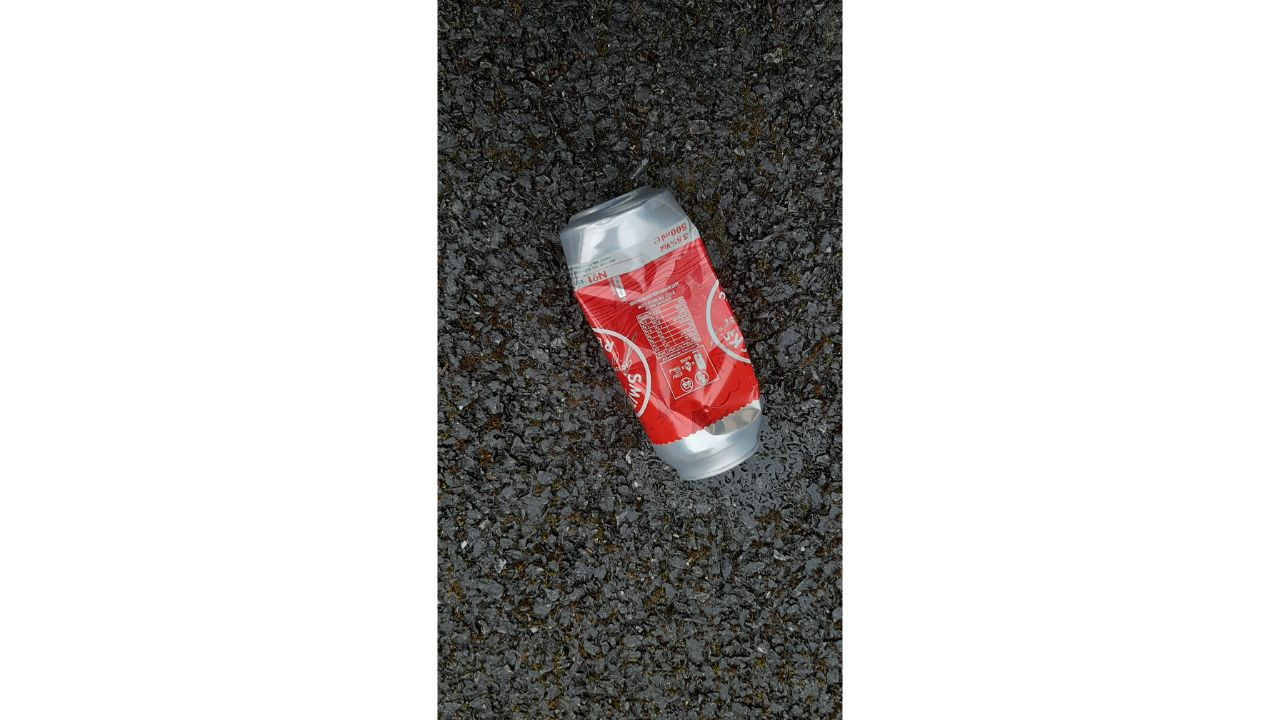Can: (554, 183, 766, 485)
